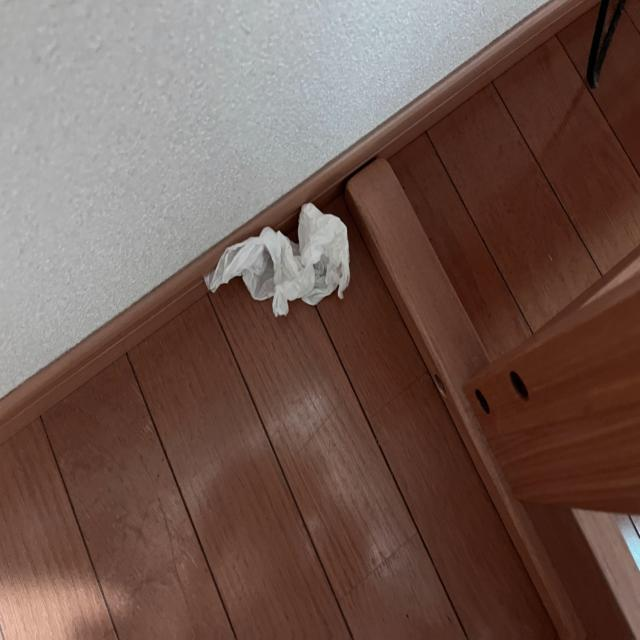Paper: (196, 190, 358, 355)
